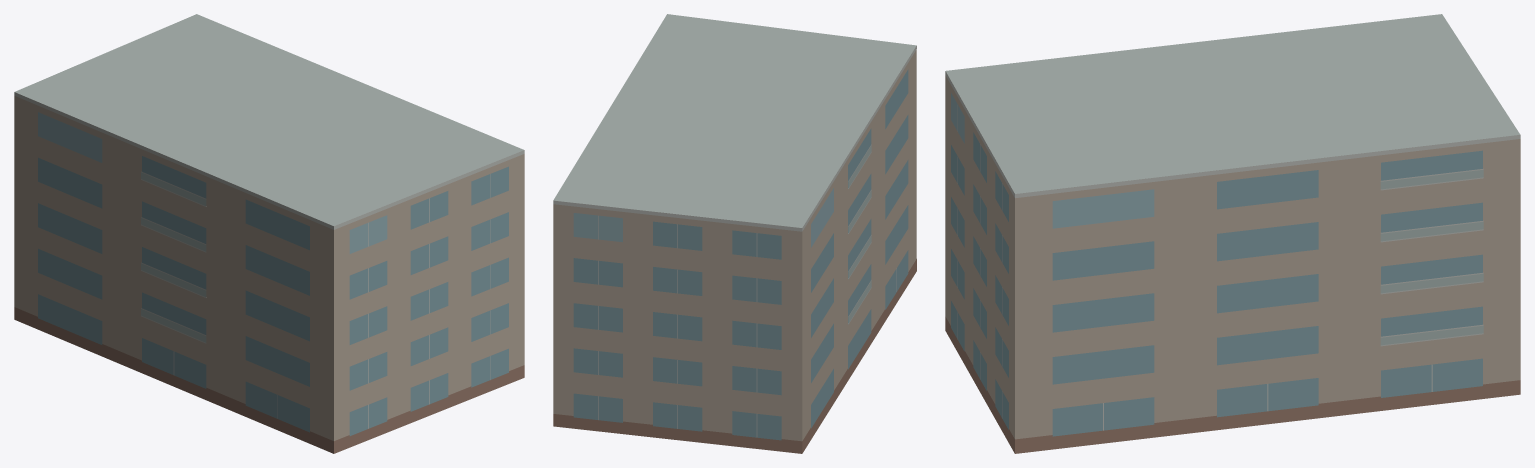
Rendered from survey-upis-32654545.glb.
3 views of the same model, side by side, from view 1: azimuth 30°, elevation 25°; view 2: azimuth 150°, elevation 25°; view 3: azimuth 270°, elevation 25° (orthographic). The views are drawn at different scales.
Visible parts, largest first — view 1: survey-upis-32654545.tmp; view 2: survey-upis-32654545.tmp; view 3: survey-upis-32654545.tmp.
Boxes of the visible parts, x1,y1,x2,y2 form: survey-upis-32654545.tmp: [14, 14, 524, 453]; survey-upis-32654545.tmp: [553, 14, 916, 453]; survey-upis-32654545.tmp: [945, 14, 1520, 453].
Size of the model in its own units: 22.67 by 15.25 by 30.6.
